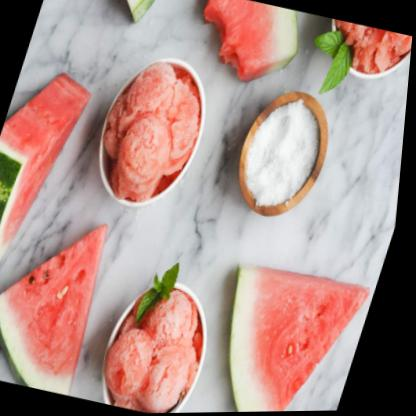watermelon: (187, 234, 389, 413), (0, 188, 139, 398), (0, 54, 101, 294)
